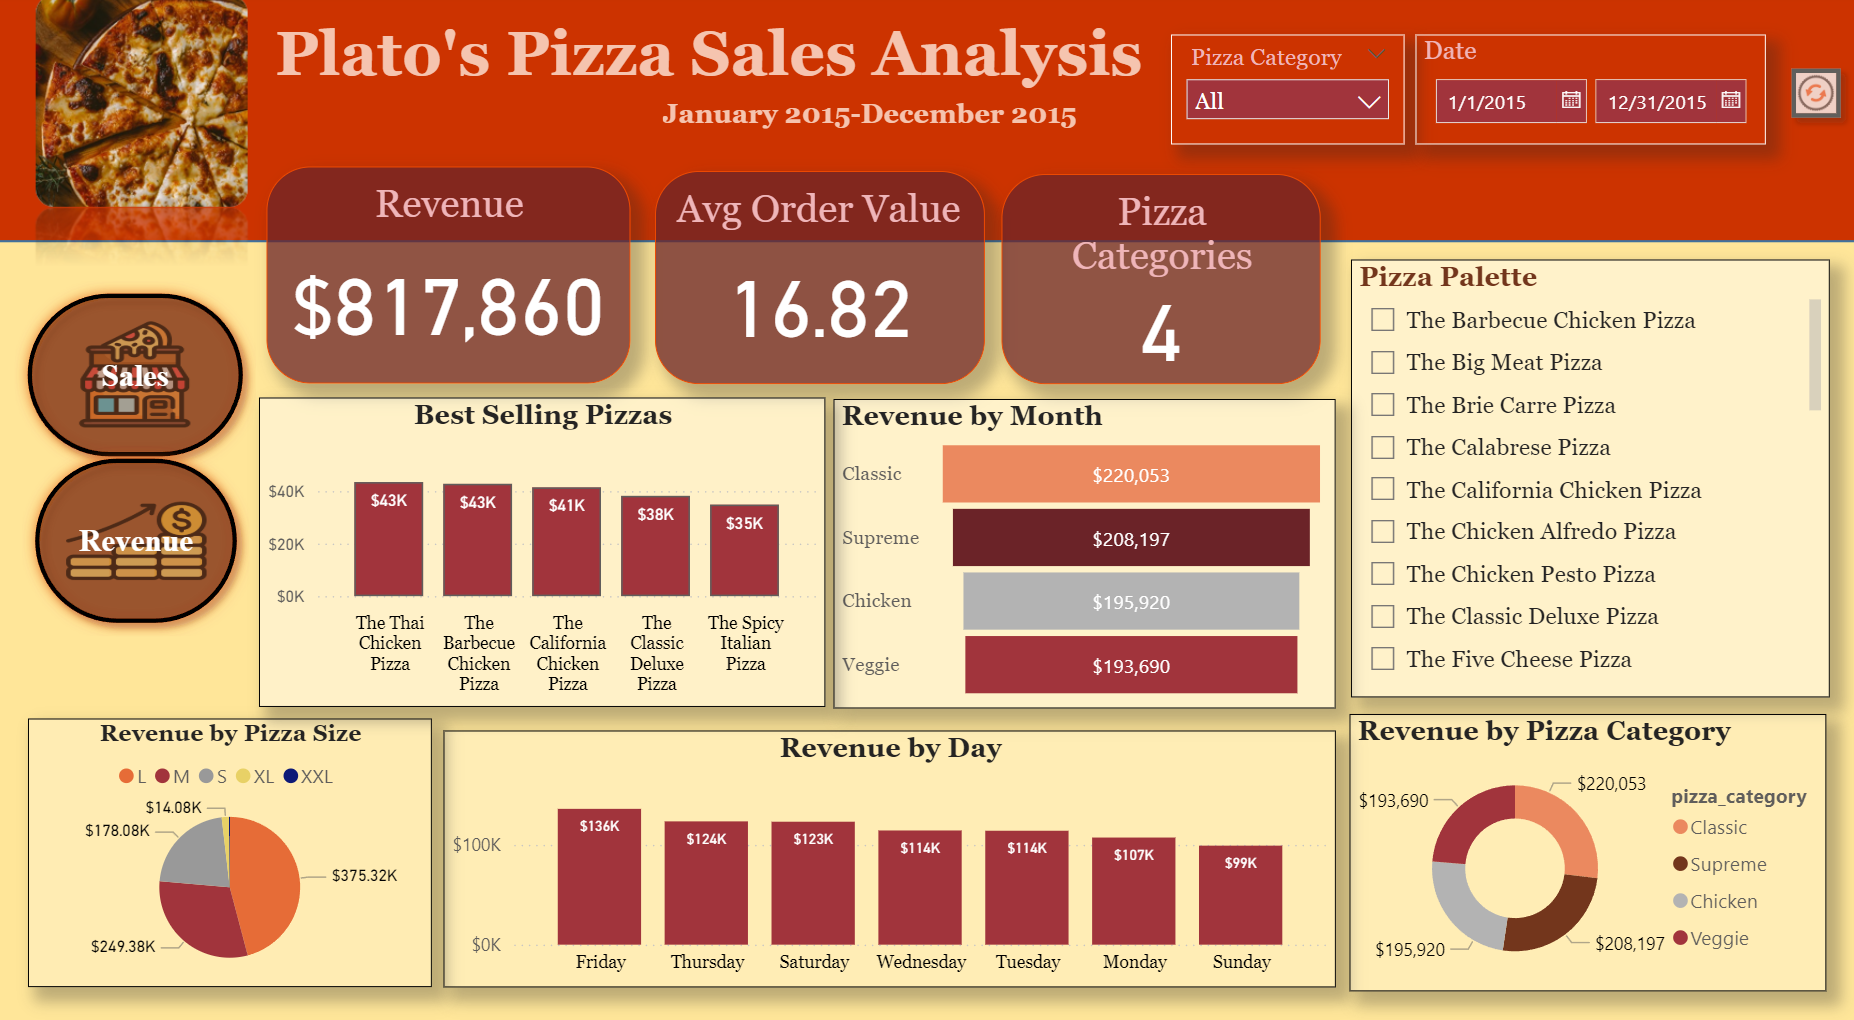

Layout of this report page (visuals, bound fields, positions):
{"tool":"powerbi","page":{"name":"Revenue","canvas":[1280,720],"ordinal":1},"visuals":[{"type":"slicer","fields":{"Values":["Data Model - Pizza Sales xlsx - pizza_sales.pizza_category"]},"box":[805.4,27.9,160.3,75.5],"z":0},{"type":"textbox","title":"Plato''s Pizza Sales Analysis","box":[186.6,16.2,731.2,54.5],"z":1000},{"type":"textbox","title":"January 2015-December 2015","box":[452.1,70.9,310.3,54.5],"z":2000},{"type":"card","title":"Revenue","fields":{"Values":["Sum(sales.Total Price)"]},"box":[186.1,117.9,249.2,148.9],"z":3000},{"type":"card","title":"Avg Order Value","fields":{"Values":["sales.AOV"]},"box":[451.9,121.7,226,146],"z":4000},{"type":"card","title":"Pizza Categories","fields":{"Values":["Count(sales.quantity)"]},"box":[689.5,123.3,218.9,143.9],"z":5000},{"type":"slicer","title":"Pizza Palette","fields":{"Values":["sales.pizza_name"]},"box":[928.5,182,327.8,299.8],"z":6000},{"type":"funnel","title":"Revenue by Month ","fields":{"Category":["sales.pizza_category"],"Y":["Sum(sales.Total Price)"]},"box":[574.9,277.1,344.3,212],"z":7000},{"type":"clusteredColumnChart","title":"Revenue by Day","fields":{"Y":["Sum(sales.Total Price)"],"Category":["sales.Day Name"]},"box":[307.3,504.6,611.4,175.7],"z":8000},{"type":"pieChart","title":"Revenue by Pizza Size","fields":{"Category":["sales.pizza_size"],"Y":["Sum(sales.Total Price)"]},"box":[22.6,496.3,276.4,183.9],"z":9000},{"type":"donutChart","title":"Revenue by Pizza Category","fields":{"Category":["sales.pizza_category"],"Y":["Sum(sales.Total Price)"]},"box":[927.9,493.3,326.8,190.1],"z":10000},{"type":"actionButton","title":"Sales","box":[13.4,196.3,165.4,129.5],"z":11000},{"type":"slicer","title":"Date","fields":{"Values":["sales.order_date"]},"box":[972.9,27.9,239.9,75.5],"z":12000},{"type":"actionButton","title":"Sales","box":[18.5,309.3,156.2,130.5],"z":13000},{"type":"actionButton","box":[1221.4,42.2,51.6,51.6],"z":14000},{"type":"clusteredColumnChart","title":"Best Selling Pizzas","fields":{"Category":["sales.pizza_name"],"Y":["Sum(sales.Total Price)"]},"box":[180.8,276.9,388.2,212],"z":15000}]}

Visuals, with their boxes in screenshot pixels (x1, y1, x2, y2), scaled from the page's 1280x720 canvas onto the 1854x1020 screenshot:
slicer - Data Model - Pizza Sales xlsx - pizza_sales.pizza_category: 1167,40,1399,146
"Plato''s Pizza Sales Analysis" textbox: 270,23,1329,100
"January 2015-December 2015" textbox: 655,100,1104,178
"Revenue" card: 270,167,631,378
"Avg Order Value" card: 655,172,982,379
"Pizza Categories" card: 999,175,1316,379
"Pizza Palette" slicer: 1345,258,1820,683
"Revenue by Month " funnel: 833,393,1331,693
"Revenue by Day" clusteredColumnChart: 445,715,1331,964
"Revenue by Pizza Size" pieChart: 33,703,433,964
"Revenue by Pizza Category" donutChart: 1344,699,1817,968
"Sales" actionButton: 19,278,259,462
"Date" slicer: 1409,40,1757,146
"Sales" actionButton: 27,438,253,623
actionButton: 1769,60,1844,133
"Best Selling Pizzas" clusteredColumnChart: 262,392,824,693
